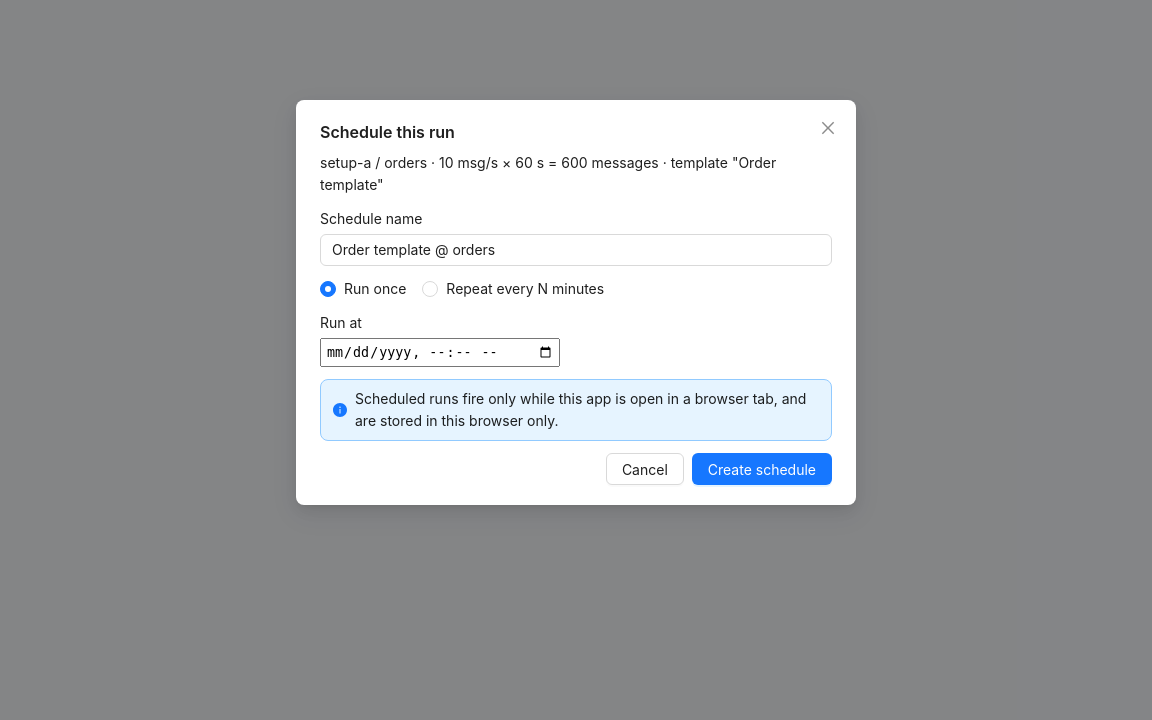
Test case: ScheduleRunModal › rejects a missing datetime
Click the button "Create schedule" at (762, 469), box left=692, top=453, right=832, bottom=485
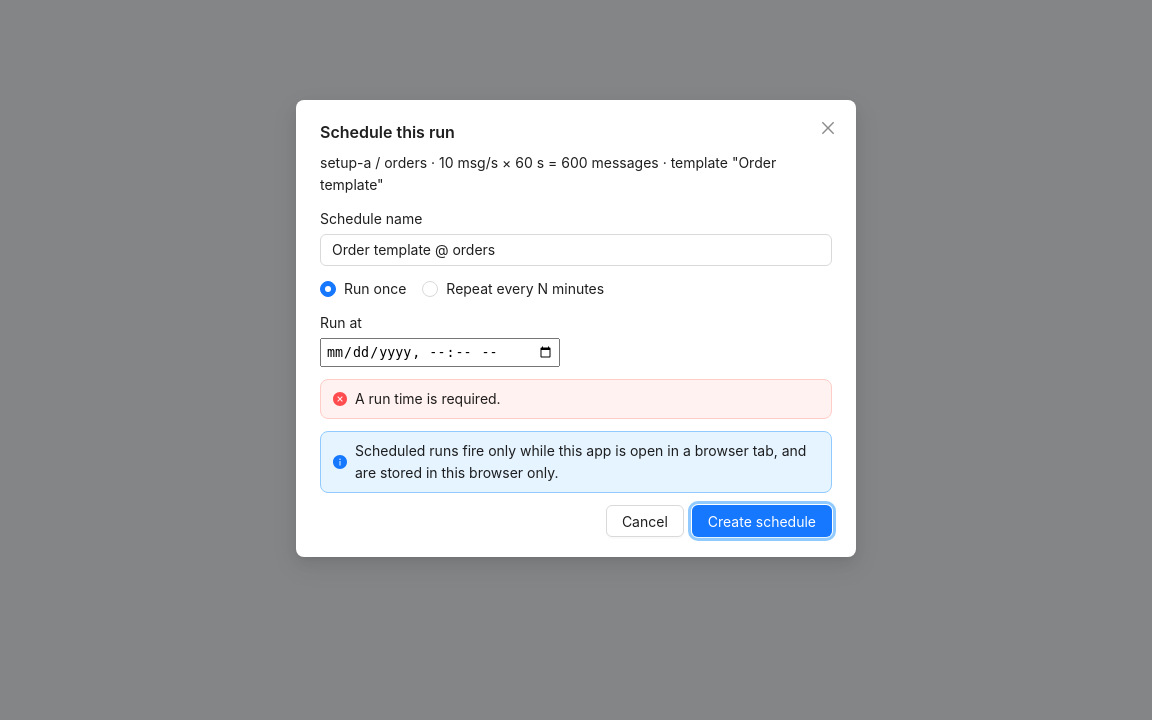
Result: the element with test id "schedule-modal-error" shows "time" at left=355, top=390, right=501, bottom=407
